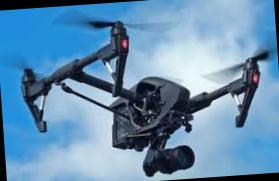drone: (24, 24, 271, 163)
